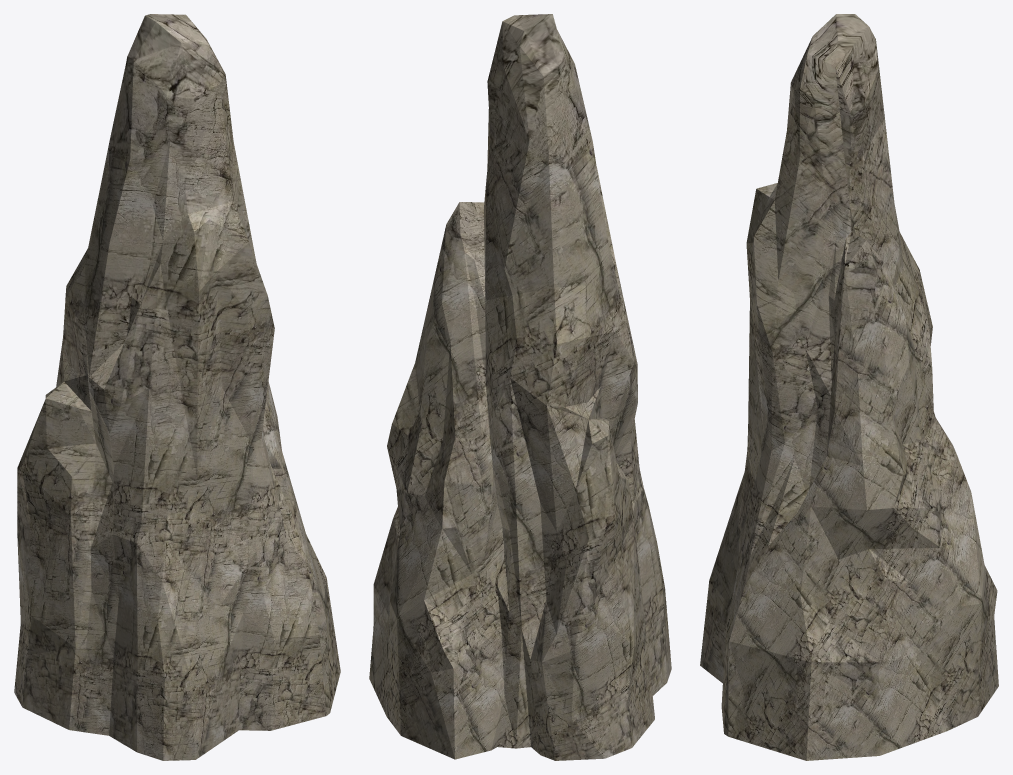
File: tw2_1_rock_05_12-transformed.glb
3 renders of one model, left to right at view 1: azimuth 30°, elevation 25°; view 2: azimuth 150°, elevation 25°; view 3: azimuth 270°, elevation 25°, orthographic. The views are drawn at different scales.
Visible parts, largest first — view 1: default; view 2: default; view 3: default.
Part boxes in pixels (left/top/right/bottom): default: left=14, top=14, right=340, bottom=760; default: left=369, top=14, right=671, bottom=760; default: left=700, top=14, right=998, bottom=760.
Size of the model in its own units: 15.51 by 36.55 by 14.87.
1 material, 1 textured.
